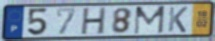5: (27, 7, 50, 38)
7: (55, 7, 77, 36)
8: (111, 7, 133, 35)
H: (80, 6, 108, 36)
K: (166, 6, 189, 34)
M: (132, 5, 167, 36)
